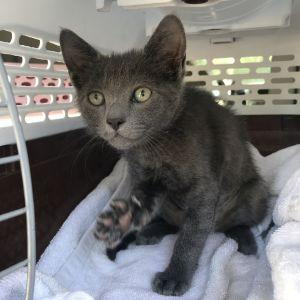rblue: (49, 3, 194, 148)
